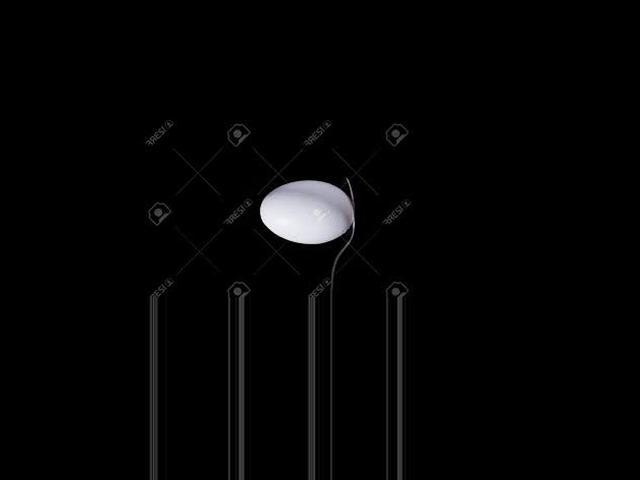egg: (261, 180, 354, 244)
